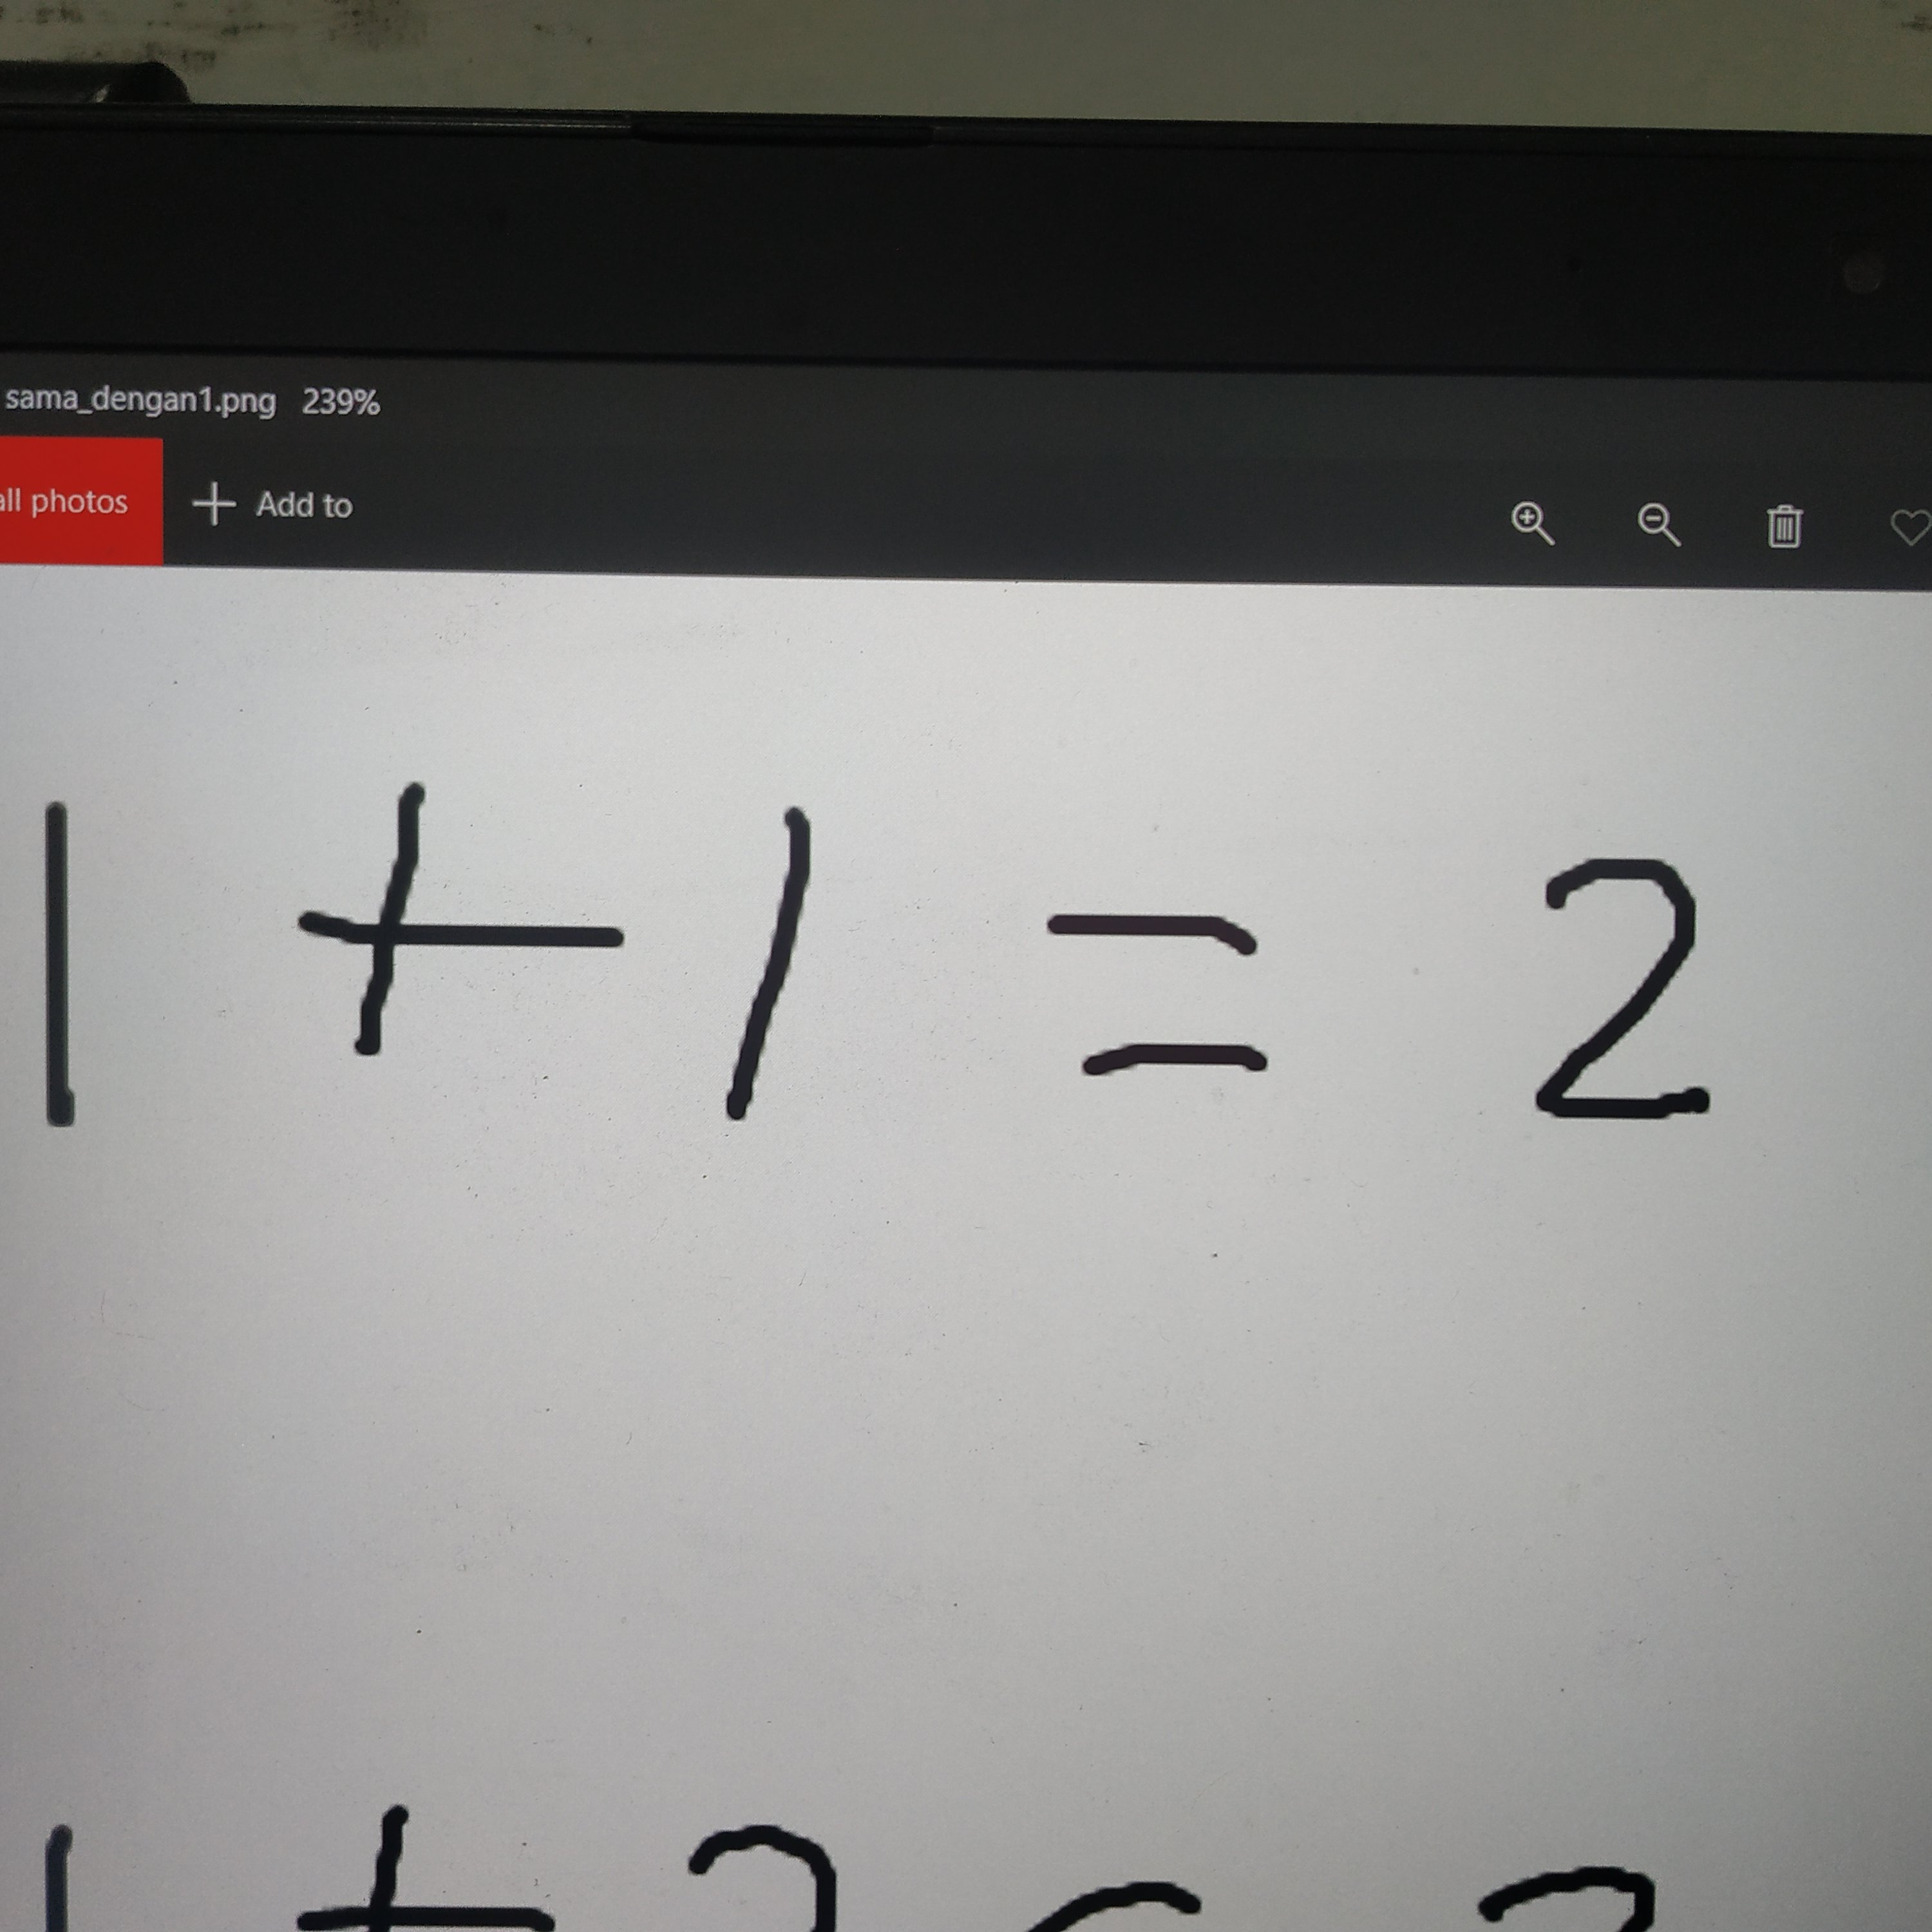equal: (1012, 887, 1324, 1107)
num1: (709, 795, 850, 1132), (23, 777, 123, 1146)
num2: (1502, 831, 1779, 1157)
sum: (281, 773, 657, 1068)
